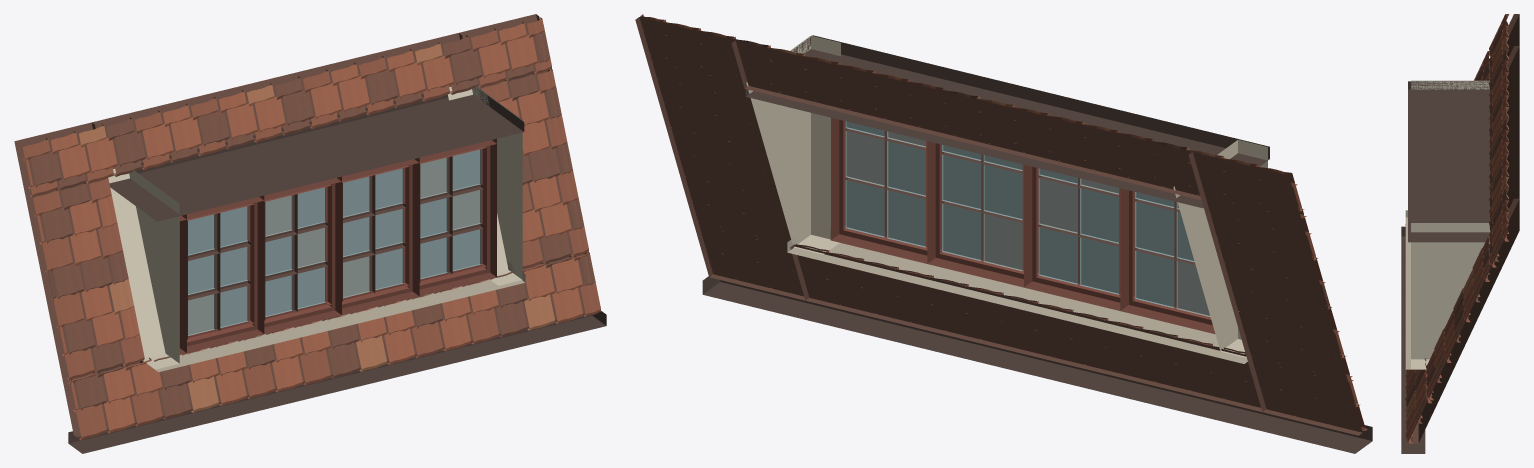
File: jingan-siming-villas-yuyuan-dormer-lod.glb
The picture shows the model from 3 angles, left to right: view 1: azimuth 30°, elevation 25°; view 2: azimuth 150°, elevation 25°; view 3: azimuth 270°, elevation 25°; orthographic projection. The views are drawn at different scales.
Visible parts, largest first — view 1: 四明别墅临愚园路红瓦坡与四扇阁楼窗; view 2: 四明别墅临愚园路红瓦坡与四扇阁楼窗; view 3: 四明别墅临愚园路红瓦坡与四扇阁楼窗.
Boxes of the visible parts, x1=… form: 四明别墅临愚园路红瓦坡与四扇阁楼窗: x1=14, y1=14, x2=606, y2=453; 四明别墅临愚园路红瓦坡与四扇阁楼窗: x1=635, y1=14, x2=1372, y2=453; 四明别墅临愚园路红瓦坡与四扇阁楼窗: x1=1401, y1=14, x2=1519, y2=453.
Bounding box in the file's own units: 4.34 × 2.07 × 0.9954.
